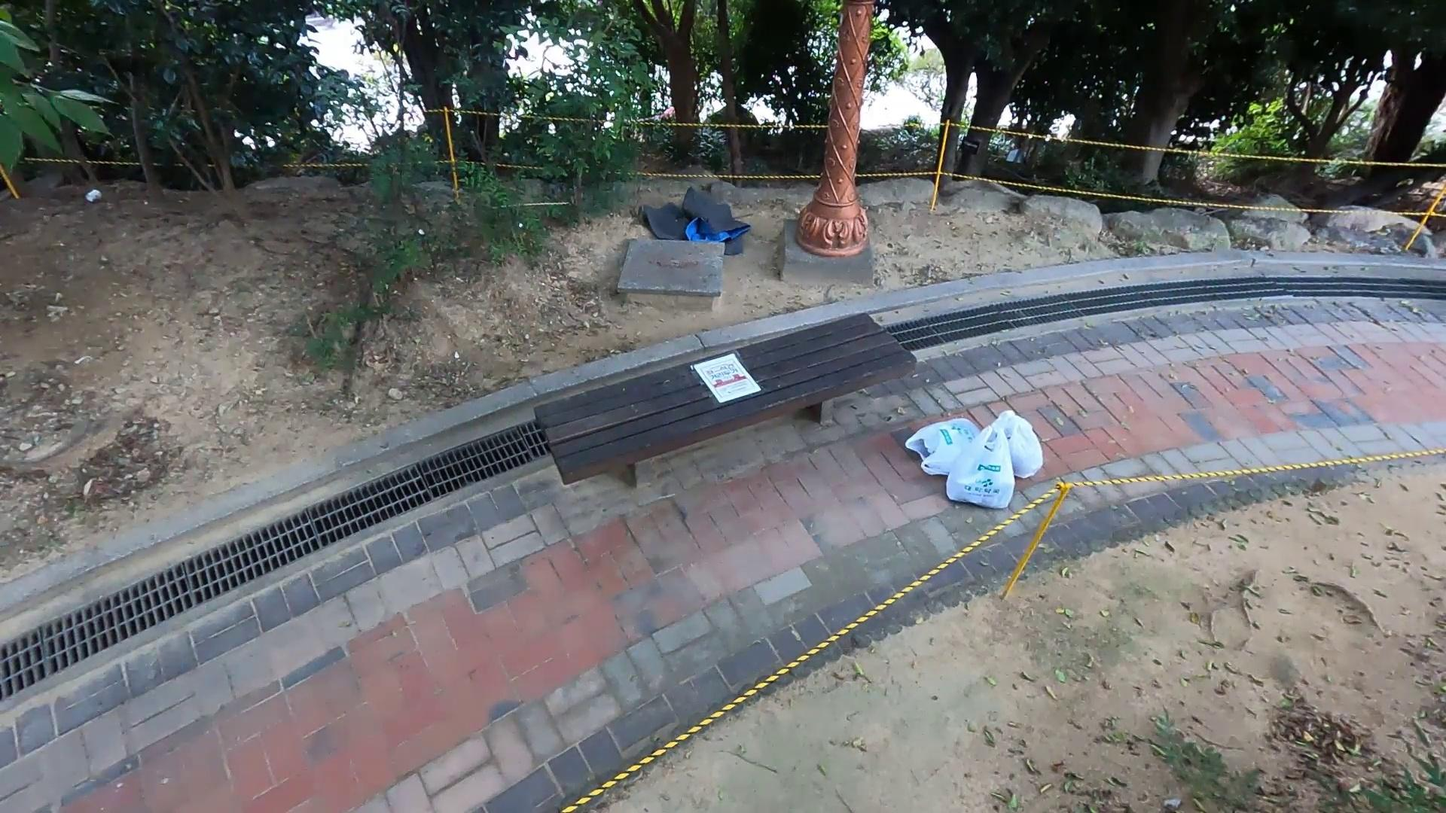trash: (637, 182, 756, 260), (943, 423, 1020, 512), (899, 412, 986, 482), (974, 406, 1048, 481)
